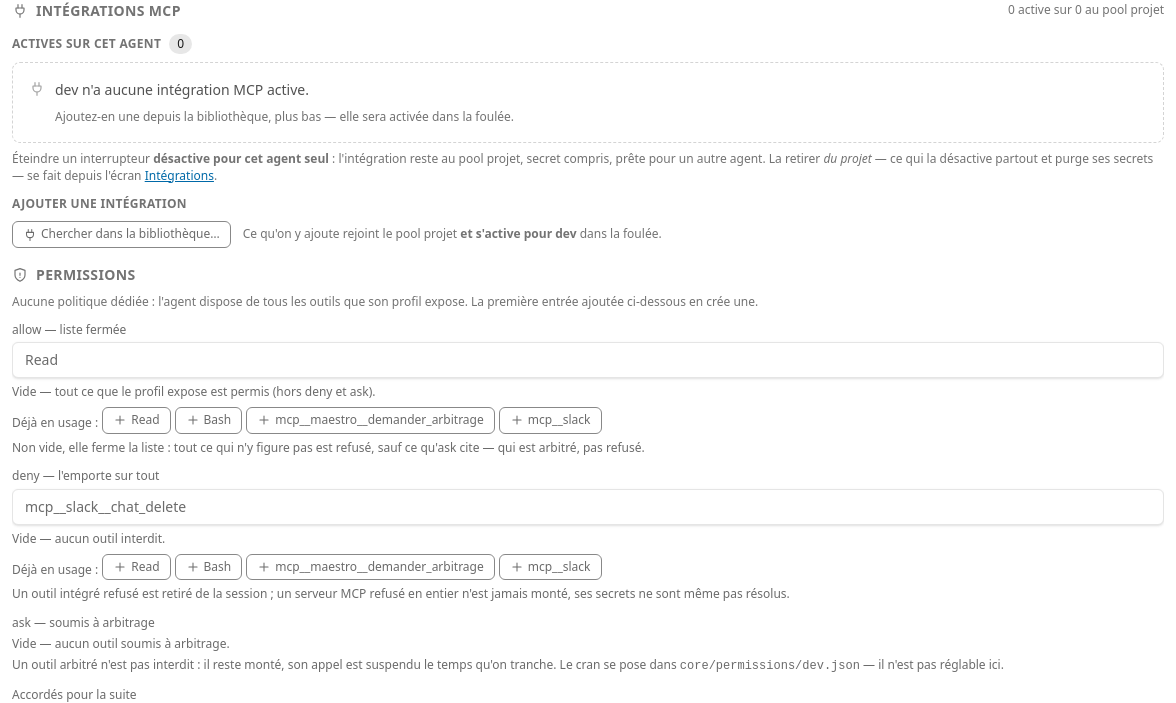
Test: ② le motif affiché est celui du dépôt › rend la cause exacte du refus, sans la reformuler
Type "mon outil" into the field labelled "deny — l'emporte sur tout" at (588, 507), box [12, 489, 1164, 525]
Then press Enter
(page scrolled)
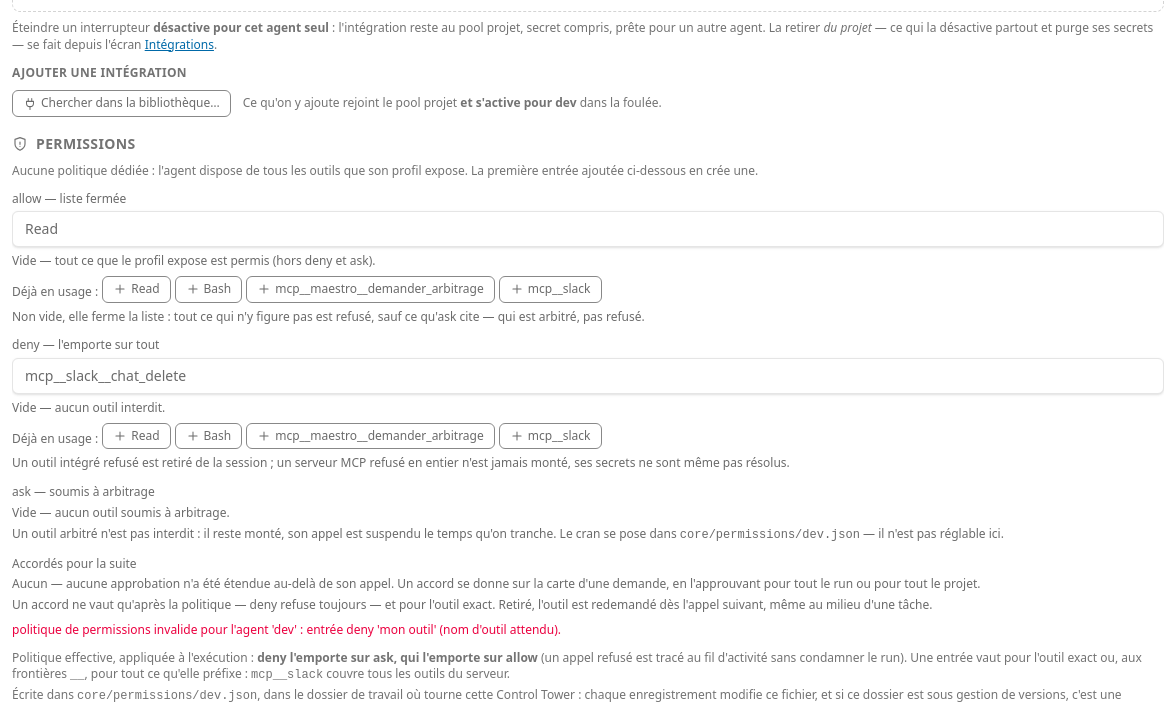
Expected: the message shows "entrée deny", [12, 621, 561, 638]
Expected: the message shows "mon outil", [12, 621, 561, 638]
